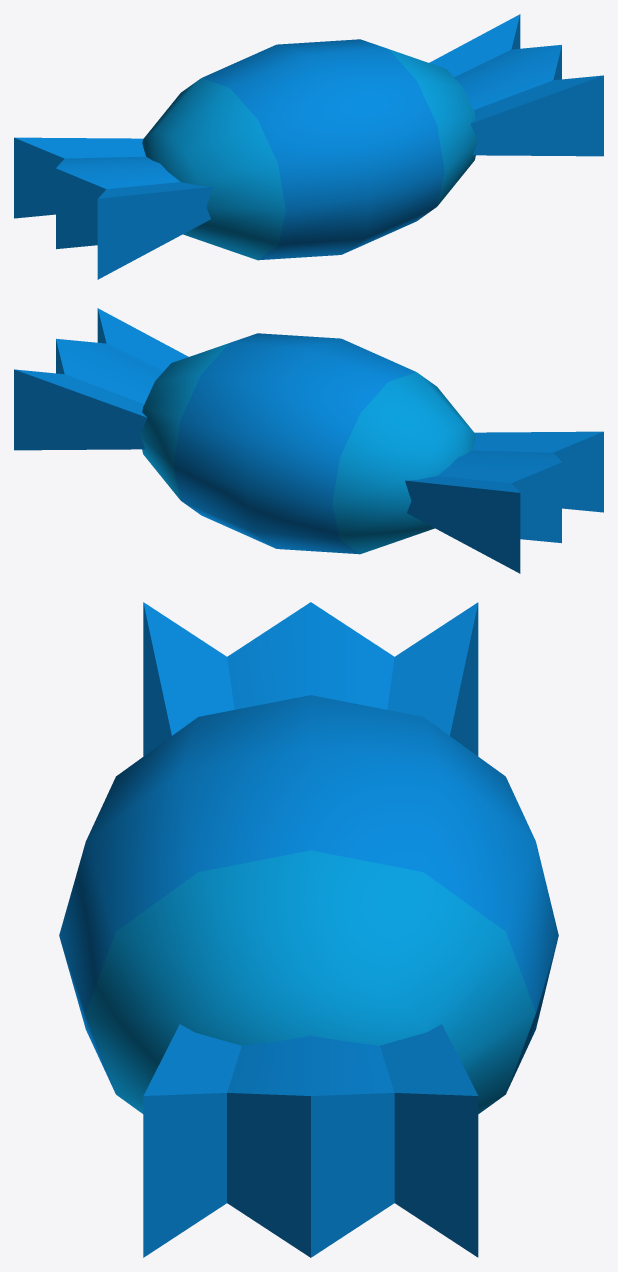
The model's file is blue_candy.fbx.
3 views of the same model, one above another, from view 1: azimuth 30°, elevation 25°; view 2: azimuth 150°, elevation 25°; view 3: azimuth 270°, elevation 25° (orthographic). The views are drawn at different scales.
Visible parts, largest first — view 1: Candy.003; view 2: Candy.003; view 3: Candy.003.
Part boxes in pixels (x1,y1,x2,y2): Candy.003: (14,14,603,279); Candy.003: (14,308,603,573); Candy.003: (59,602,558,1257).
Bounding box in the file's own units: 0.946 × 0.4043 × 0.3357.
